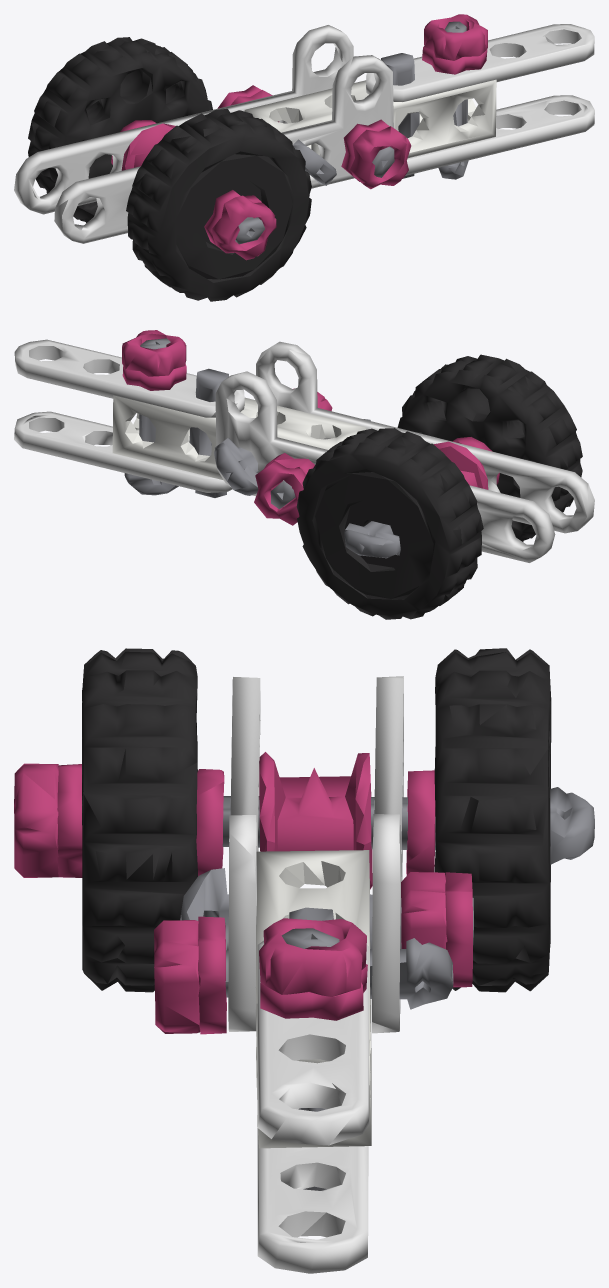
Rendered from Milestone3.fbx.
3 renders of one model, top to bottom at view 1: azimuth 30°, elevation 25°; view 2: azimuth 150°, elevation 25°; view 3: azimuth 270°, elevation 25°, orthographic. The views are drawn at different scales.
Parts seen in each view (by area): view 1: Brace AGD 90 ASYM ERR BU02x06x01x00.25 - SPN-BRC-1003 (stemf; view 2: Brace AGD 90 ASYM ERR BU02x06x01x00.25 - SPN-BRC-1003 (stemf; view 3: Brace AGD 90 ASYM ERR BU02x06x01x00.25 - SPN-BRC-1003 (stemf.
Boxes of the visible parts, box(x1,y1,x2,y2) form: Brace AGD 90 ASYM ERR BU02x06x01x00.25 - SPN-BRC-1003 (stemf: box(14, 14, 594, 301); Brace AGD 90 ASYM ERR BU02x06x01x00.25 - SPN-BRC-1003 (stemf: box(14, 330, 594, 619); Brace AGD 90 ASYM ERR BU02x06x01x00.25 - SPN-BRC-1003 (stemf: box(14, 648, 594, 1273).
Bounding box in the file's own units: 12454 × 3737 × 6321.
